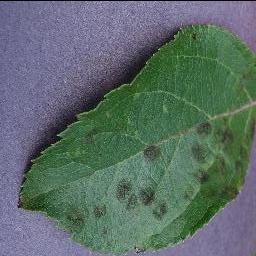apple healthy: (17, 22, 255, 255)
